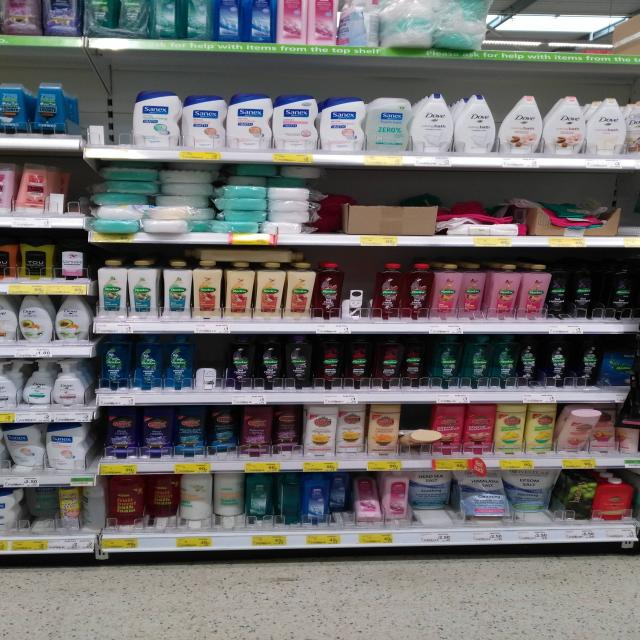empty: (79, 81, 137, 158), (340, 260, 385, 318), (49, 160, 92, 220), (185, 340, 234, 392), (21, 486, 60, 532)
